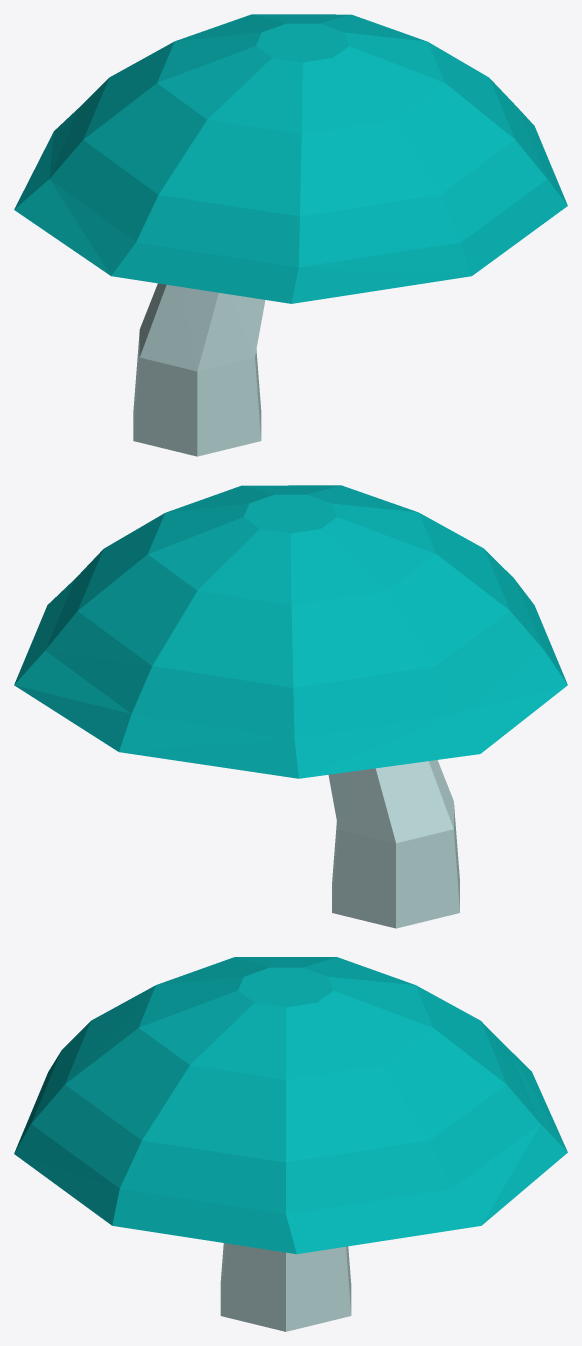
Rendered from mushroom_blue.fbx.
3 views of the same model, one above another, from view 1: azimuth 30°, elevation 25°; view 2: azimuth 150°, elevation 25°; view 3: azimuth 270°, elevation 25° (orthographic). The views are drawn at different scales.
Parts seen in each view (by area): view 1: prop_mushrooms_middle_small_geo_1; view 2: prop_mushrooms_middle_small_geo_1; view 3: prop_mushrooms_middle_small_geo_1.
Boxes of the visible parts, bbox=[...] form: prop_mushrooms_middle_small_geo_1: bbox=[14, 14, 567, 456]; prop_mushrooms_middle_small_geo_1: bbox=[14, 485, 567, 928]; prop_mushrooms_middle_small_geo_1: bbox=[14, 957, 567, 1331].
Bounding box in the file's own units: 20.89 × 14.97 × 20.56.
